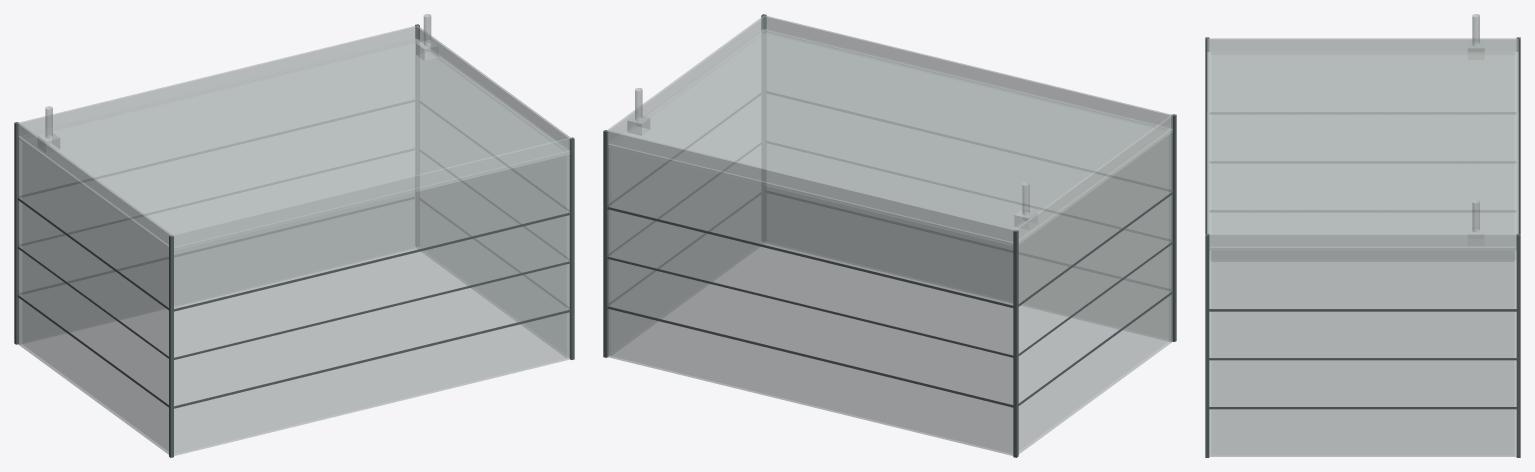
Rendered from fab1-site-fab1-massing.glb.
The picture shows the model from 3 angles, left to right: view 1: azimuth 30°, elevation 25°; view 2: azimuth 150°, elevation 25°; view 3: azimuth 270°, elevation 25°; orthographic projection. The views are drawn at different scales.
Parts seen in each view (by area): view 1: FAB1_Shell.001, FAB1_Lines, FAB1_RoofPlant; view 2: FAB1_Shell.001, FAB1_Lines, FAB1_RoofPlant; view 3: FAB1_Shell.001, FAB1_Lines, FAB1_RoofPlant.
Part boxes in pixels (box(x1,y1,x2,y2)): FAB1_Shell.001: box(18, 25, 571, 455); FAB1_Lines: box(14, 24, 574, 457); FAB1_RoofPlant: box(38, 14, 438, 152); FAB1_Shell.001: box(607, 15, 1172, 455); FAB1_Lines: box(603, 14, 1176, 457); FAB1_RoofPlant: box(627, 88, 1037, 229); FAB1_Shell.001: box(1207, 38, 1518, 456); FAB1_Lines: box(1205, 37, 1520, 457); FAB1_RoofPlant: box(1467, 14, 1484, 245).
Bounding box in the file's own units: 36.5 × 21.46 × 24.5.
2 materials, 1 textured.
